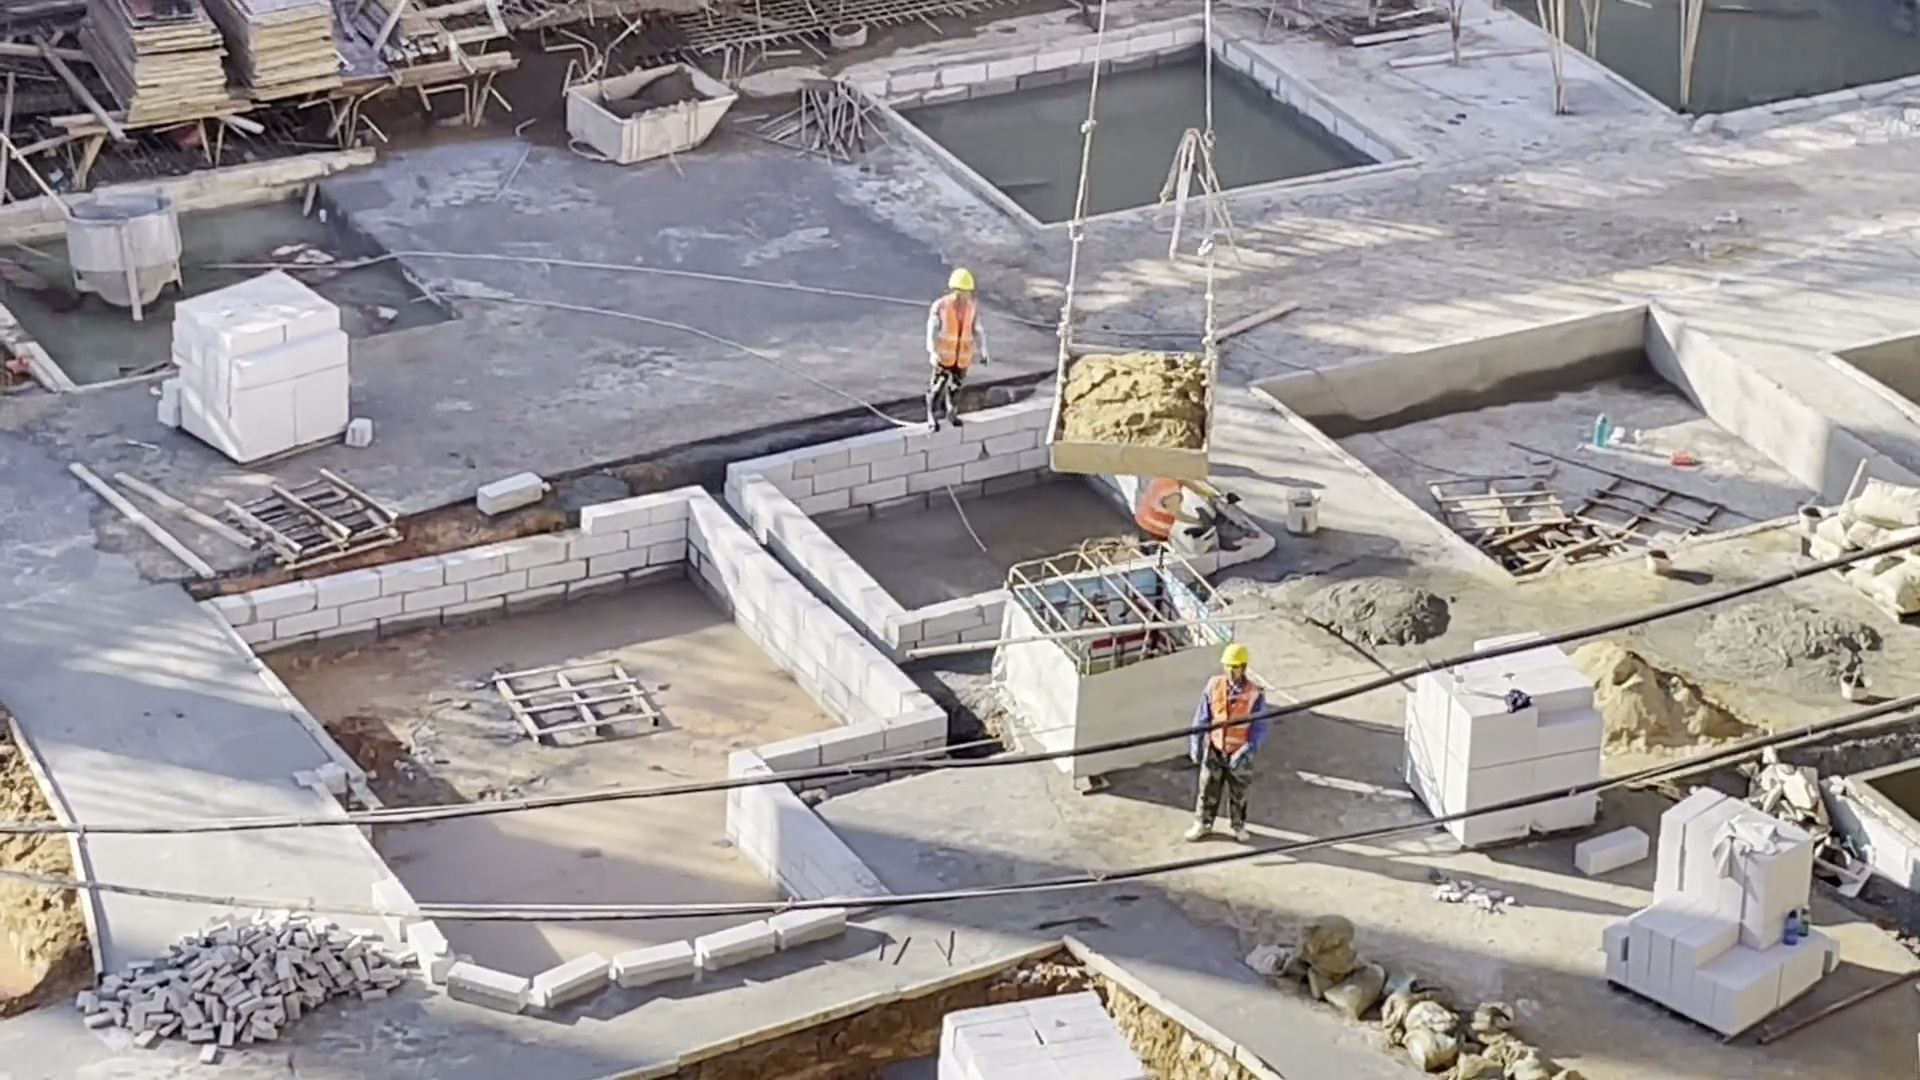board: (80, 6, 228, 130), (217, 5, 344, 108)
brick: (1593, 780, 1847, 1038), (150, 269, 378, 479), (1391, 680, 1610, 787), (938, 994, 1151, 1080)
helmet: (1219, 642, 1253, 669), (947, 269, 976, 291)
hopper: (1036, 341, 1230, 480), (566, 58, 741, 164), (58, 185, 178, 326)
person: (1185, 645, 1272, 848), (918, 268, 995, 434), (1128, 477, 1234, 553)
vest: (931, 294, 979, 375), (1136, 475, 1188, 539), (1204, 675, 1264, 719)
